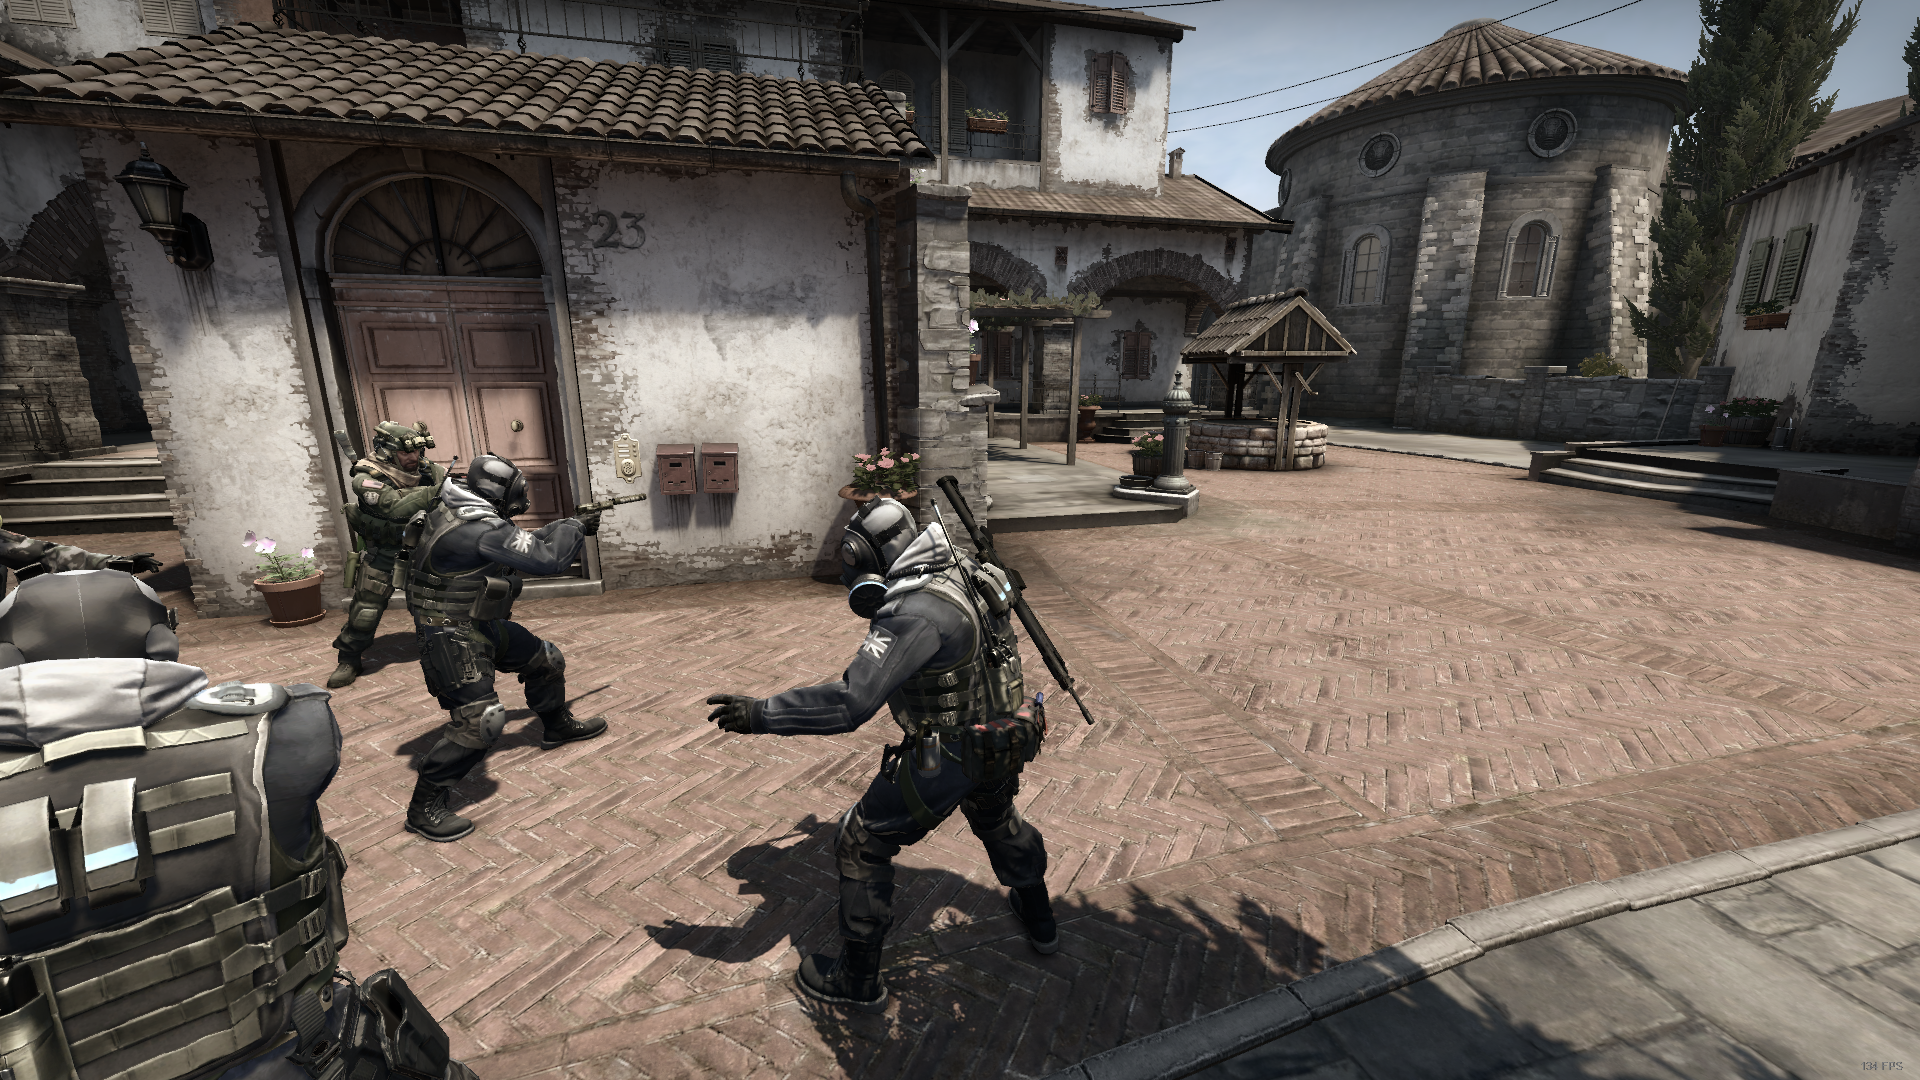ct: (1, 564, 402, 1080), (700, 488, 1087, 1007), (393, 455, 617, 829)
